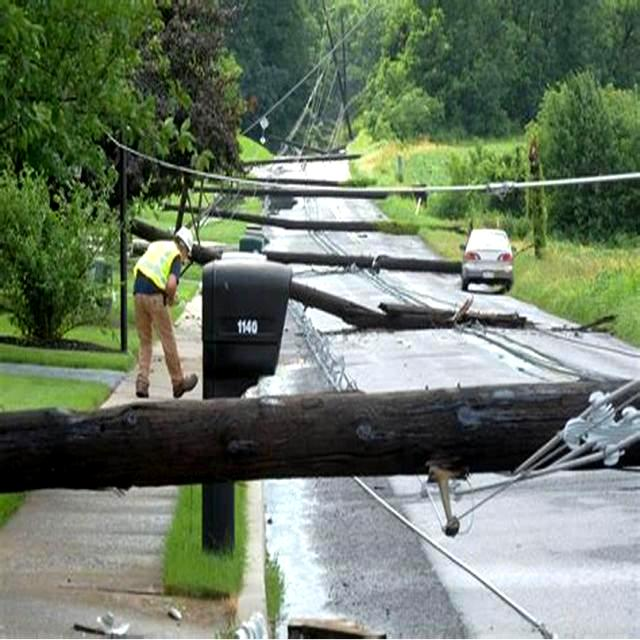Broken Pole: (1, 368, 640, 498), (136, 205, 452, 295), (284, 274, 521, 334), (168, 194, 422, 245)
